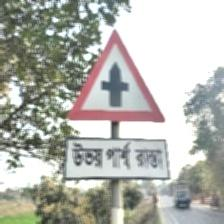Crossroad: (63, 29, 174, 181)
